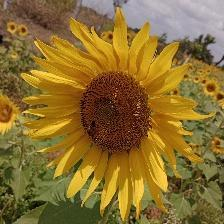sunflower: (20, 7, 219, 223)
